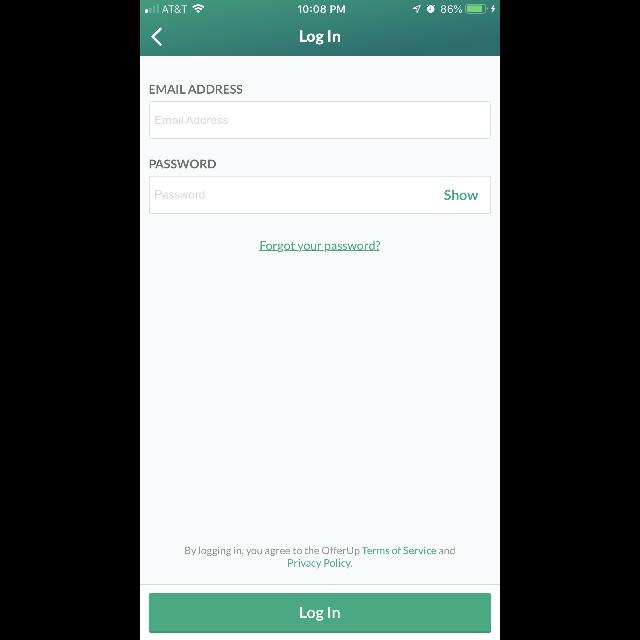icon: (152, 28, 162, 46)
input: (149, 101, 491, 139), (149, 176, 491, 214)
text: (185, 547, 455, 569), (260, 242, 380, 252), (150, 85, 242, 94), (300, 30, 340, 46), (156, 116, 228, 124), (150, 160, 216, 168), (156, 191, 204, 199), (444, 190, 478, 200)
textbutton: (149, 593, 491, 633)
uppertaskbar: (140, 0, 500, 14)
